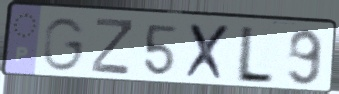5: (143, 24, 181, 78)
9: (286, 27, 326, 88)
G: (42, 15, 89, 73)
L: (231, 24, 278, 87)
X: (182, 21, 235, 84)
Z: (88, 16, 136, 78)
